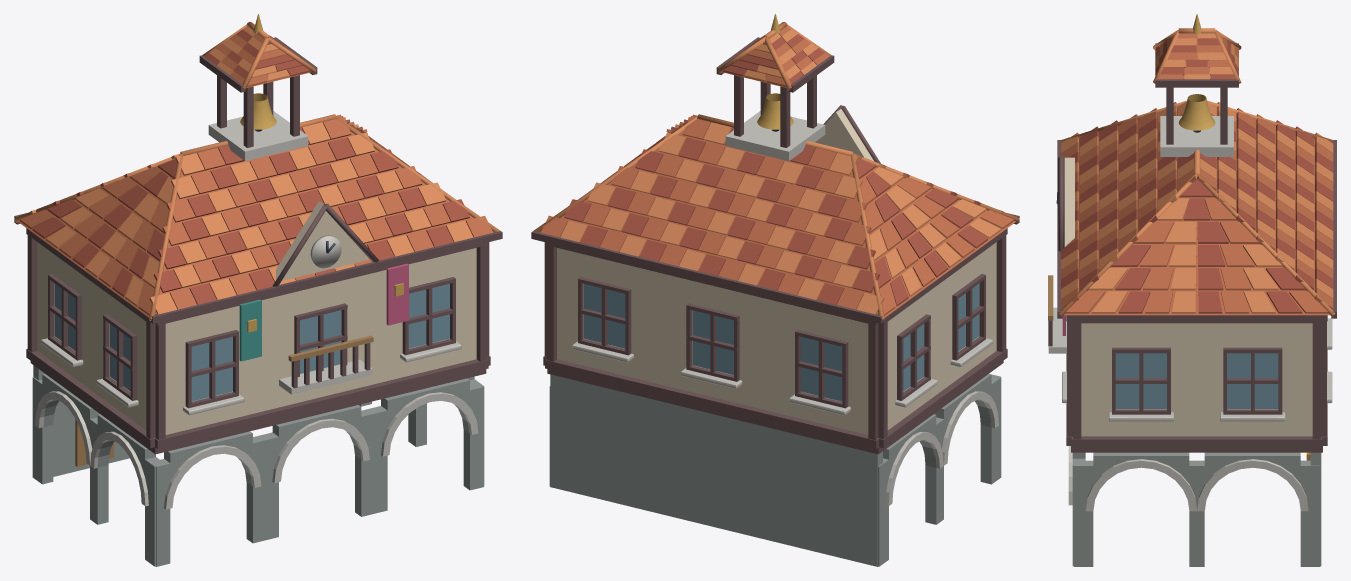
The model's file is town_hall.glb.
The picture shows the model from 3 angles, left to right: view 1: azimuth 30°, elevation 25°; view 2: azimuth 150°, elevation 25°; view 3: azimuth 270°, elevation 25°; orthographic projection.
Visible parts, largest first — view 1: Hall_hipped_roof, Hall_ornate_course, Hall_eave_fascia, Hall_front_pier.002, Hall_front_pier.001, Hall_upper_ivory.006, Hall_central_pediment, Hall_upper_ivory.011, Hall_turret_plinth, Hall_first_floor, Hall_rear_stone_wall, Hall_ornate_course.006 (+46 smaller); view 2: Hall_rear_stone_wall, Hall_hipped_roof, Hall_ornate_course.004, Hall_upper_ivory.037, Hall_upper_ivory.042, Hall_eave_fascia.001, Hall_turret_plinth, Hall_first_floor, Hall_ornate_course.006, glass_Hall_back, glass_Hall_back.002, glass_Hall_back.001 (+37 smaller); view 3: Hall_hipped_roof, Hall_upper_ivory.024, Hall_ornate_course.002, glass_Hall_right, glass_Hall_right.001, Hall_ornate_course.003, Hall_turret_plinth, Hall_side_end_pier, Hall_side_pier, Hall_upper_ivory.019, Hall_upper_ivory.029, Hall_upper_ivory.025 (+62 smaller).
Part boxes in pixels (box(x1,y1,x2,y2)): Hall_hipped_roof: box(18, 131, 493, 317); Hall_ornate_course: box(154, 359, 488, 448); Hall_eave_fascia: box(150, 231, 502, 323); Hall_front_pier.002: box(355, 406, 387, 516); Hall_front_pier.001: box(246, 432, 278, 543); Hall_upper_ivory.006: box(239, 319, 294, 390); Hall_central_pediment: box(276, 201, 369, 280); Hall_upper_ivory.011: box(341, 296, 402, 362); Hall_turret_plinth: box(208, 111, 308, 161); Hall_first_floor: box(30, 361, 486, 454); Hall_rear_stone_wall: box(33, 365, 129, 476); Hall_ornate_course.006: box(26, 348, 154, 448); Hall_rear_stone_wall: box(550, 374, 882, 566); Hall_hipped_roof: box(540, 132, 1015, 317); Hall_ornate_course.004: box(545, 359, 878, 448); Hall_upper_ivory.037: box(631, 292, 692, 364); Hall_upper_ivory.042: box(739, 319, 794, 390); Hall_eave_fascia.001: box(531, 231, 883, 323); Hall_turret_plinth: box(725, 111, 825, 161); Hall_first_floor: box(547, 361, 1003, 454); Hall_ornate_course.006: box(878, 348, 1007, 448); glass_Hall_back: box(584, 284, 625, 348); glass_Hall_back.002: box(801, 336, 842, 401); glass_Hall_back.001: box(692, 310, 733, 375); Hall_hipped_roof: box(1064, 107, 1330, 315); Hall_upper_ivory.024: box(1171, 351, 1223, 409); Hall_ornate_course.002: box(1071, 436, 1322, 447); glass_Hall_right: box(1115, 353, 1166, 408); glass_Hall_right.001: box(1227, 353, 1278, 408); Hall_ornate_course.003: box(1071, 315, 1322, 323); Hall_turret_plinth: box(1160, 116, 1233, 156); Hall_side_end_pier: box(1300, 460, 1320, 566); Hall_side_pier: box(1074, 460, 1093, 566); Hall_upper_ivory.019: box(1081, 351, 1111, 409); Hall_upper_ivory.029: box(1282, 351, 1312, 409); Hall_upper_ivory.025: box(1167, 323, 1226, 350).
Bounding box in the file's own units: 9.6 × 12.15 × 6.75.
